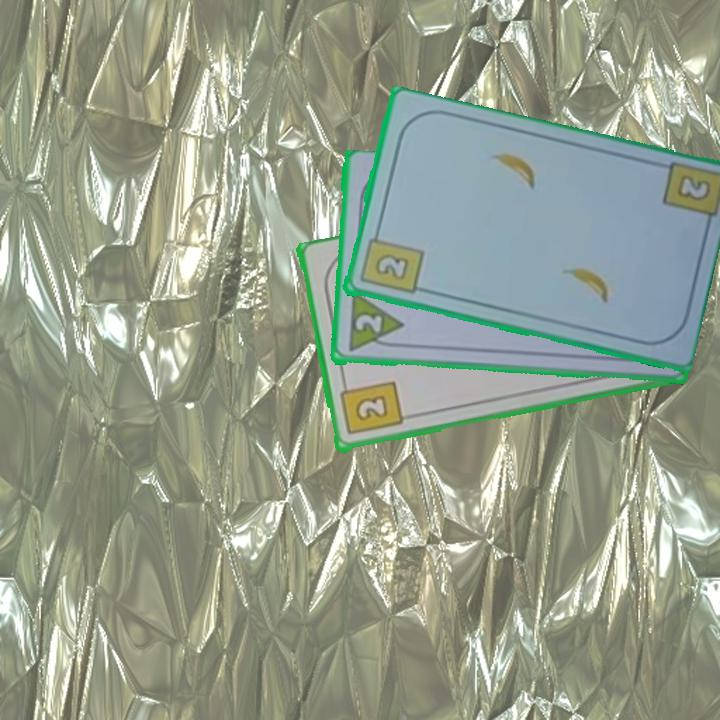2b: (356, 226, 426, 298), (336, 377, 405, 439), (672, 171, 714, 204)
2p: (351, 311, 384, 336)
